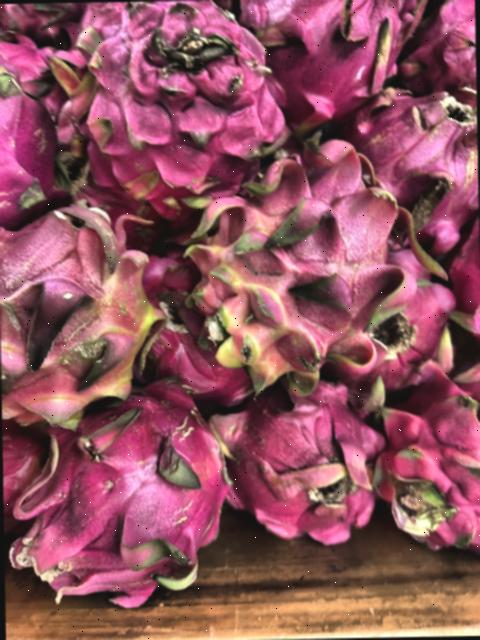buah-naga-belum-matang: (196, 146, 412, 388), (0, 195, 171, 424)
buah-naga-matang: (25, 381, 237, 605), (68, 0, 280, 194), (209, 373, 378, 549), (342, 68, 478, 246), (373, 349, 480, 557), (235, 0, 404, 121), (0, 56, 62, 226)
